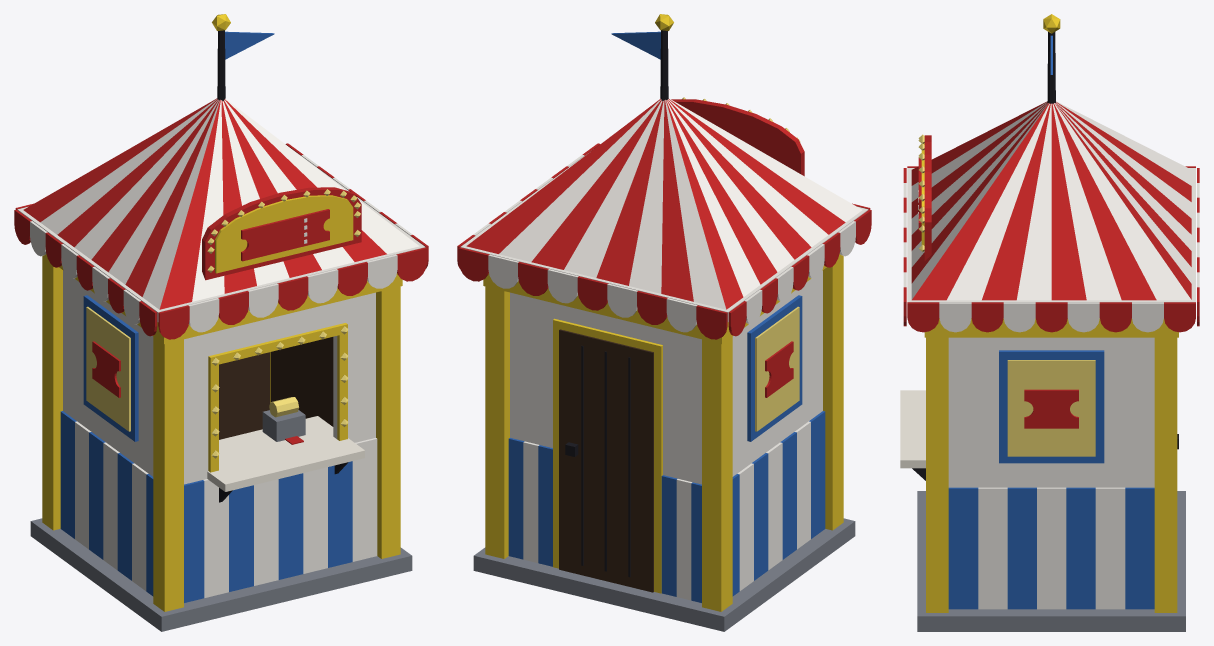
Rendered from ticket-booth.glb.
3 views of the same model, side by side, from view 1: azimuth 30°, elevation 25°; view 2: azimuth 150°, elevation 25°; view 3: azimuth 270°, elevation 25° (orthographic). The views are drawn at different scales.
Parts seen in each view (by area): view 1: roof_candy_red, roof_white, body_yellow, body_white, counter_sky_blue, counter_white, plinth_mid_grey, interior_dark_wood, counter_warm_white, sign_candy_red, sign_yellow, window_yellow (+8 smaller); view 2: roof_white, roof_candy_red, door_dark_wood, body_white, body_yellow, counter_sky_blue, plinth_mid_grey, counter_white, door_yellow, sign_candy_red, boards_yellow_light, door_soot_black (+5 smaller); view 3: roof_white, roof_candy_red, body_white, counter_sky_blue, body_yellow, counter_white, plinth_mid_grey, boards_yellow_light, boards_sky_blue, fascia_yellow, counter_warm_white, boards_candy_red (+2 smaller).
Boxes of the visible parts, <box> form: roof_candy_red: <box>14,98,428,339</box>; roof_white: <box>17,98,425,332</box>; body_yellow: <box>42,256,400,611</box>; body_white: <box>63,270,375,484</box>; counter_sky_blue: <box>60,411,352,602</box>; counter_white: <box>75,421,377,597</box>; plinth_mid_grey: <box>30,518,412,631</box>; interior_dark_wood: <box>219,337,333,439</box>; counter_warm_white: <box>207,416,364,491</box>; sign_candy_red: <box>202,187,361,280</box>; sign_yellow: <box>215,195,353,273</box>; window_yellow: <box>208,323,347,472</box>; roof_white: <box>460,98,868,332</box>; roof_candy_red: <box>457,98,871,339</box>; door_dark_wood: <box>559,329,653,592</box>; body_white: <box>510,270,822,484</box>; body_yellow: <box>485,256,843,611</box>; counter_sky_blue: <box>508,411,825,602</box>; plinth_mid_grey: <box>473,518,855,631</box>; counter_white: <box>523,421,810,600</box>; door_yellow: <box>553,318,662,593</box>; sign_candy_red: <box>671,99,804,176</box>; boards_yellow_light: <box>755,306,799,431</box>; door_soot_black: <box>565,345,630,577</box>; roof_white: <box>903,101,1199,332</box>; roof_candy_red: <box>903,101,1199,332</box>; body_white: <box>948,337,1154,487</box>; counter_sky_blue: <box>948,487,1154,609</box>; body_yellow: <box>926,337,1177,612</box>; counter_white: <box>978,487,1125,609</box>; plinth_mid_grey: <box>917,491,1185,631</box>; boards_yellow_light: <box>1007,360,1095,456</box>; boards_sky_blue: <box>999,350,1104,463</box>; fascia_yellow: <box>924,318,1178,337</box>; counter_warm_white: <box>900,390,925,468</box>; boards_candy_red: <box>1024,389,1078,428</box>.
Size of the model in its own units: 2.27 by 4.27 by 2.1.
